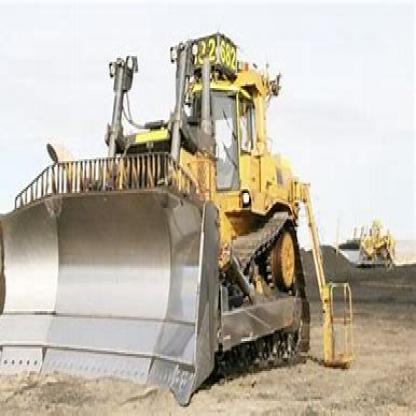bull_dozer/loader/grader: (0, 28, 341, 392)
